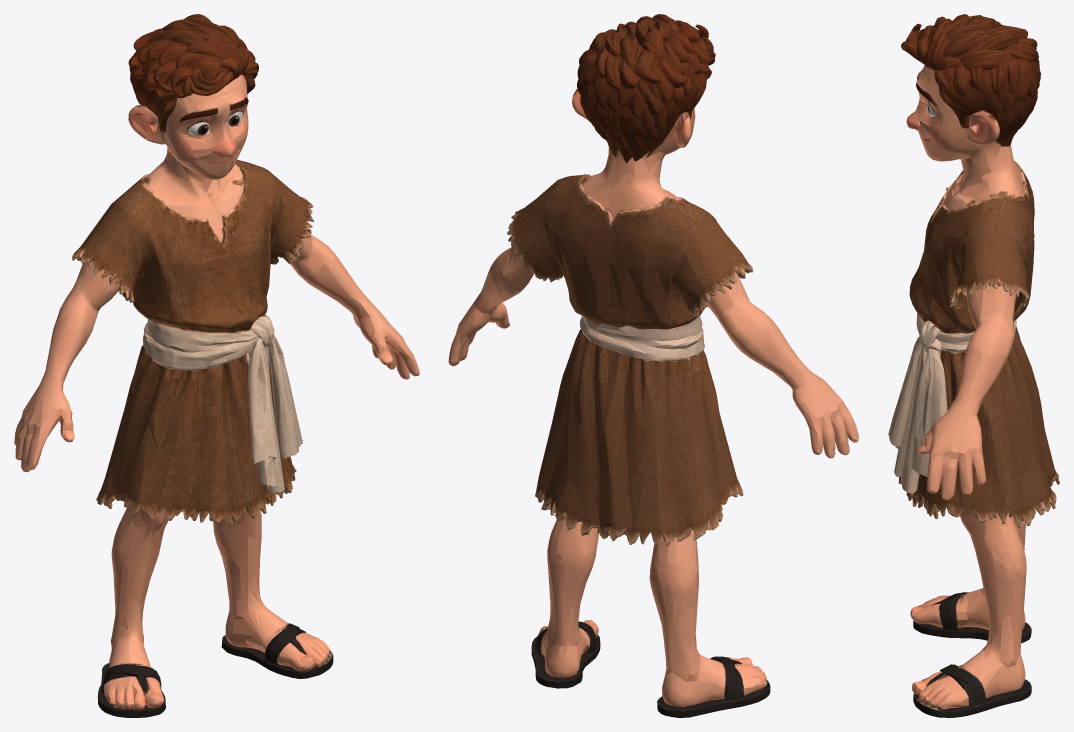
The picture shows the model from 3 angles, left to right: view 1: azimuth 30°, elevation 25°; view 2: azimuth 150°, elevation 25°; view 3: azimuth 270°, elevation 25°; orthographic projection. The views are drawn at different scales.
Visible parts, largest first — view 1: Mesh_0; view 2: Mesh_0; view 3: Mesh_0.
Boxes of the visible parts, x1,y1,x2,y2 form: Mesh_0: (14,14,419,717); Mesh_0: (448,14,859,717); Mesh_0: (888,14,1059,717).
Size of the model in its own units: 1.2 by 1.9 by 0.4621.
Materials: 1 (1 with a texture image).
